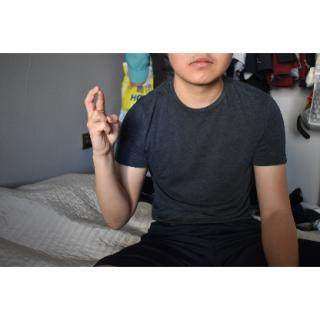ZAY: (81, 80, 122, 163)
